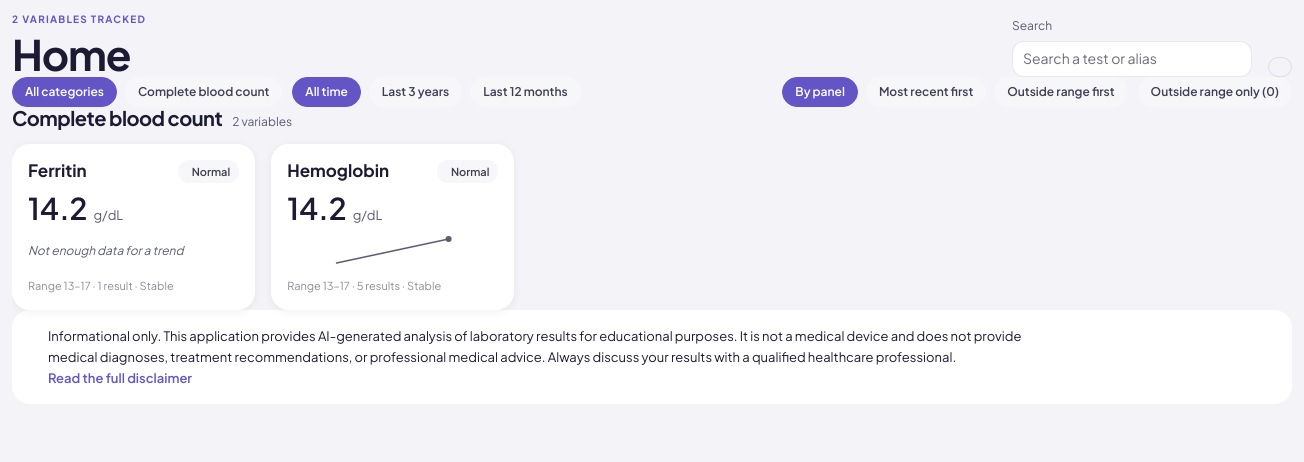
Test case: Variables › time window › drops a variable whose newest result predates the window
Expected: the link "Ferritin" is shown, [12,144,255,310]
Click the button "Last 12 months": [525, 92] box [470,76,581,107]
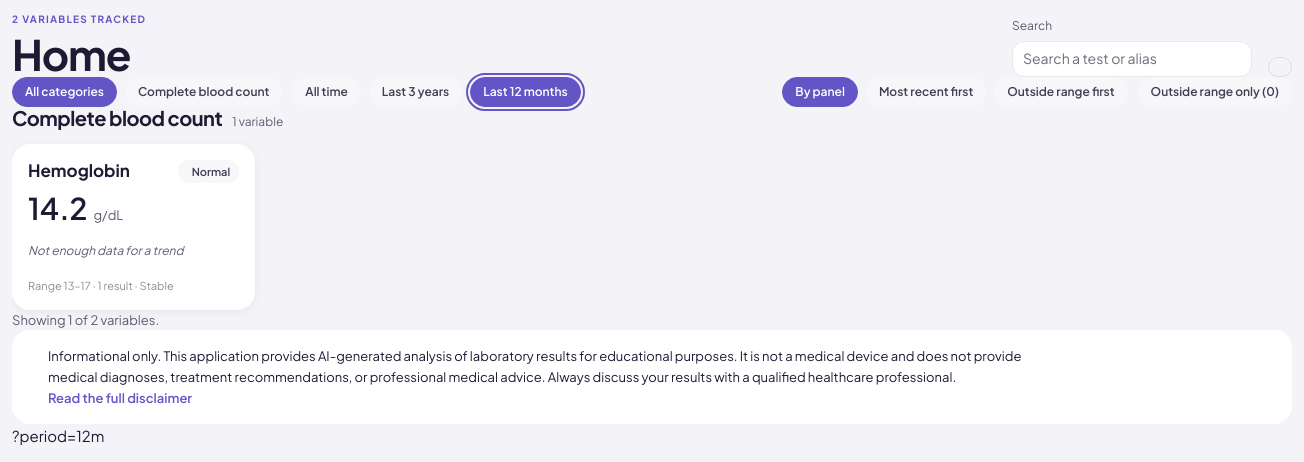
Expected: the link "Hemoglobin" is shown, [12,144,255,310]
Result: the link "Ferritin" is gone
